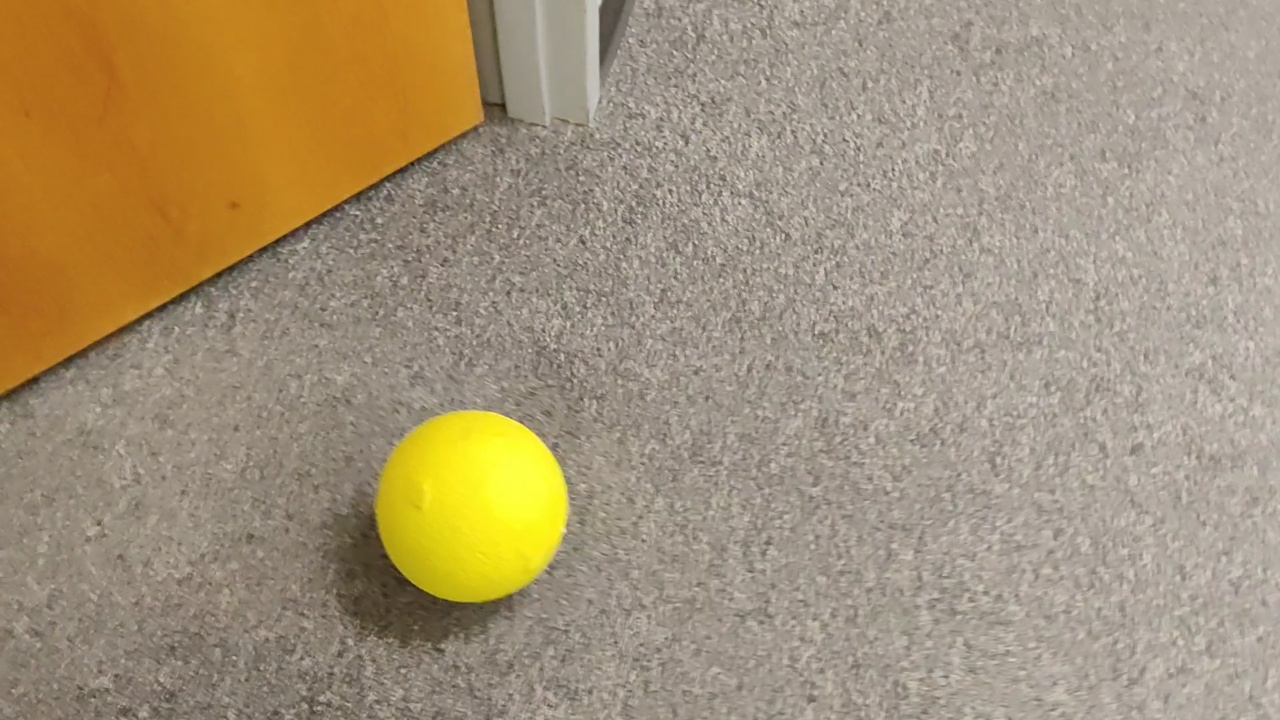Ball: (373, 406, 574, 615)
